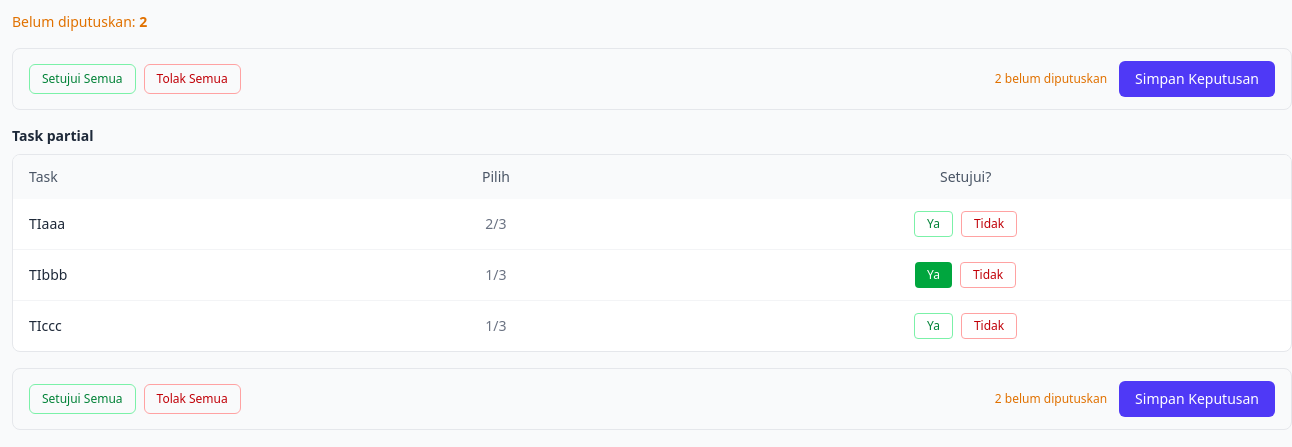
Test: ReviewForm — Requirement (011): counter 'Belum diputuskan' di header reaktif › counter berkurang seketika saat satu task diputuskan, tanpa reload/refresh
The width and height of the screenshot is (1292, 447).
Click the button "Ya" in the row of "TIaaa".
click(933, 224)  # box [914,211,953,237]
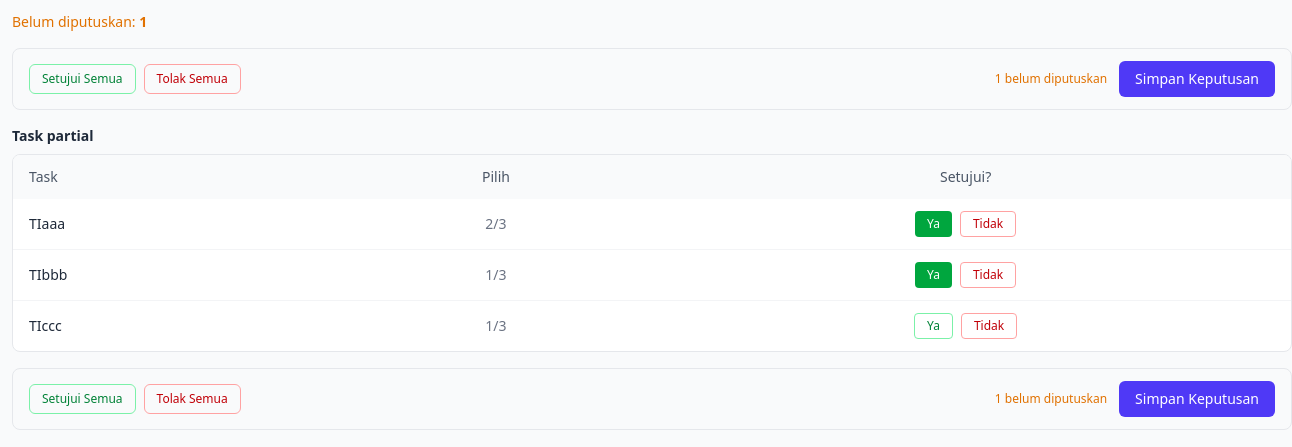
Result: the text "Belum diputuskan:" reads "Belum diputuskan: 1" at [12,12,147,32]
